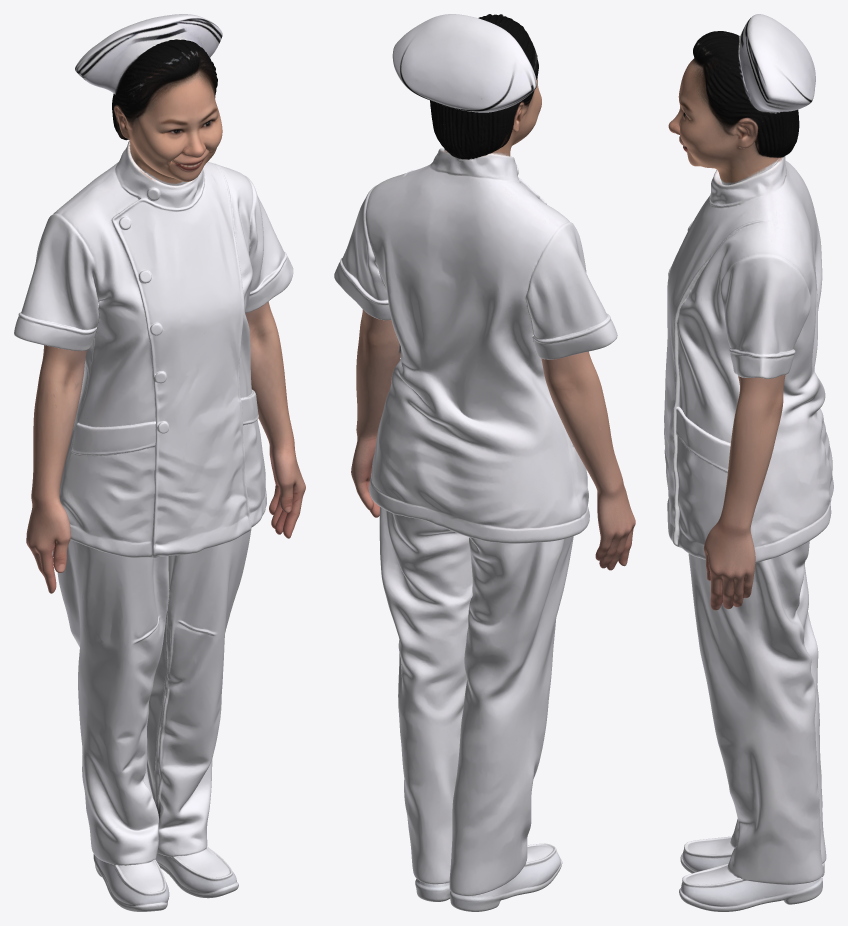
The model's file is 鍾惠君主任.glb.
3 views of the same model, side by side, from view 1: azimuth 30°, elevation 25°; view 2: azimuth 150°, elevation 25°; view 3: azimuth 270°, elevation 25° (orthographic).
Bounding box in the file's own units: 0.6428 × 1.9 × 0.3387.
1 material, 1 textured.
